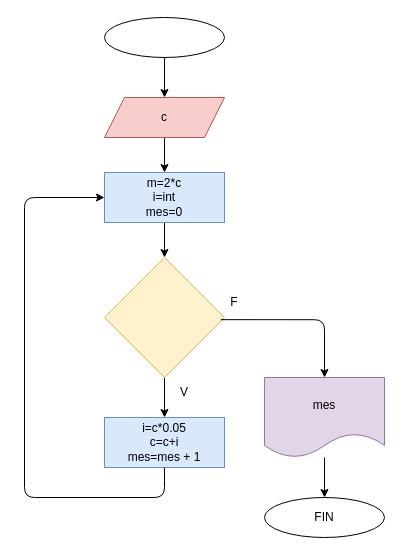
The diagram is 402 pixels wide and 555 high, and some of its shapes have lost their labels. The box of each missing label's shape, as (x1, y1, x2, y2) in pixels:
c < m: (104, 256, 224, 378)
INICIO: (104, 16, 224, 58)
